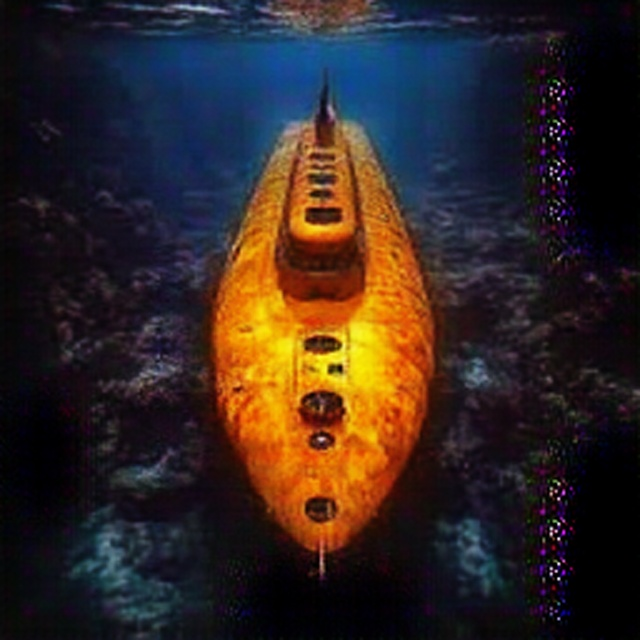submarine: (200, 59, 446, 588)
